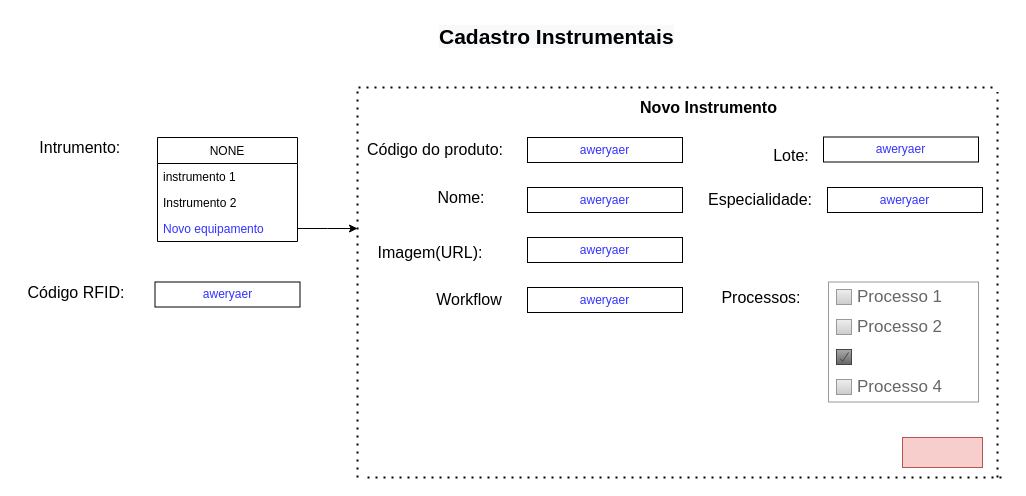
Image size: 1026x496. Some labels were removed from this diagram. Each missing label, with the centre of its shape:
Processo 3: the point at 844,356
VOLTAR: the point at 942,452
